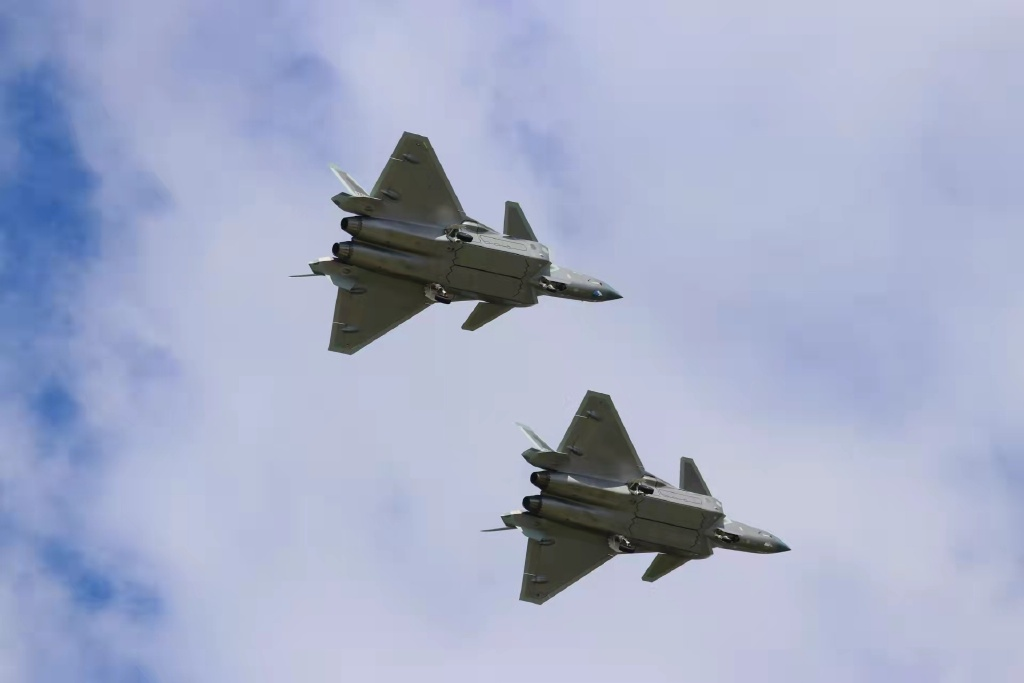J20: (288, 130, 623, 356), (479, 389, 792, 606)
